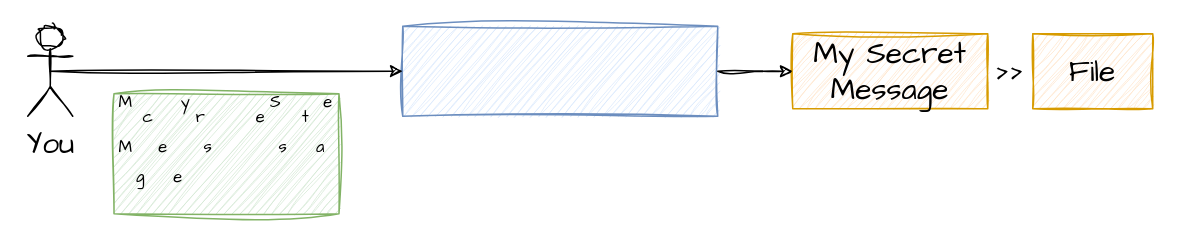
Some shapes in this 1179 by 240 pixel diagram are drawn without their labels. Each missing label, with the box of its shape:
out.png: (112, 92, 339, 214)
steganography: (401, 25, 718, 116)
